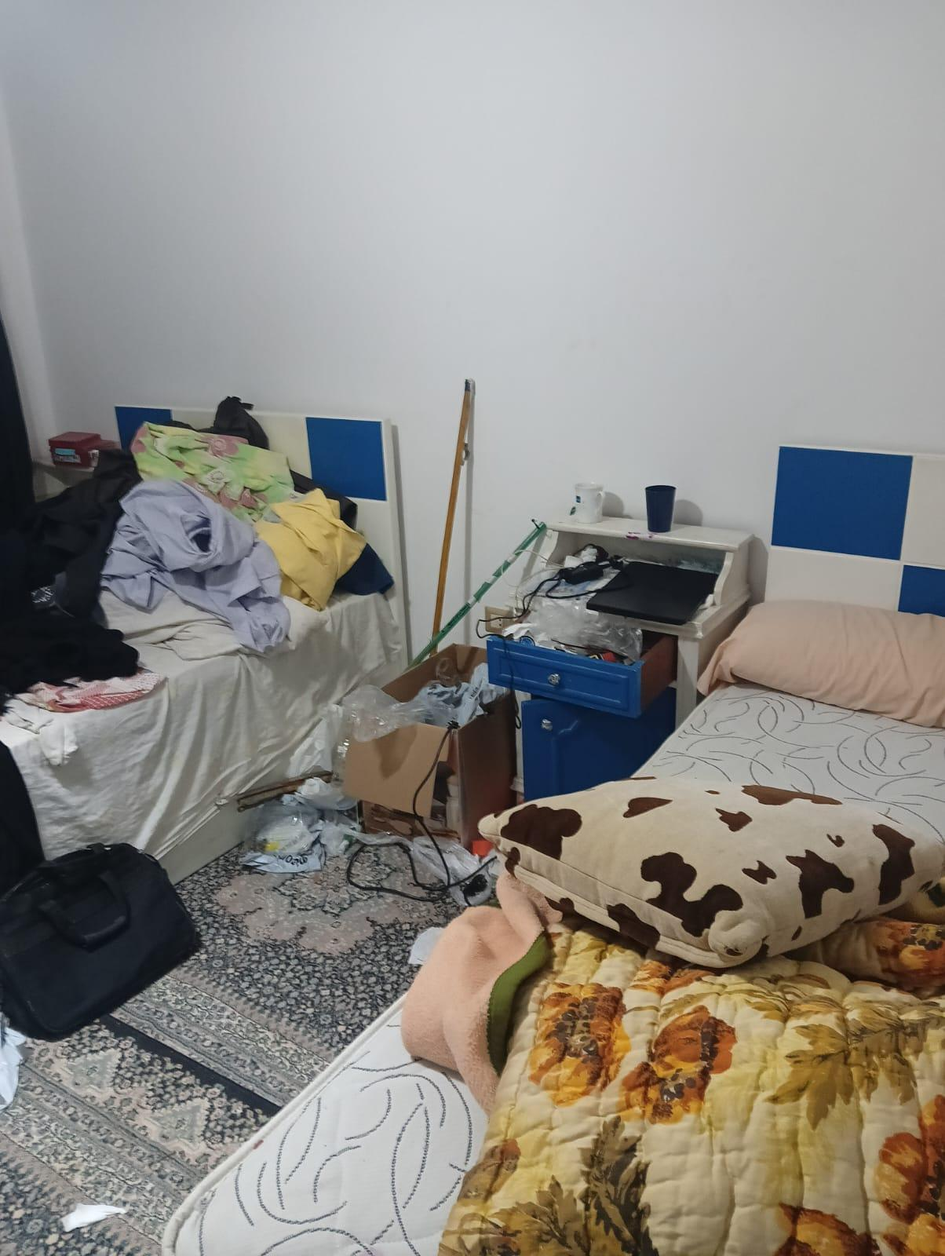cup: (645, 485, 676, 533), (573, 483, 604, 523)
